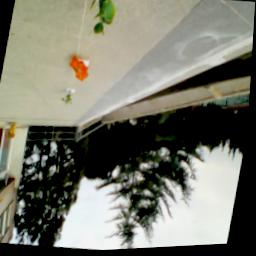herb: (85, 1, 120, 40), (62, 91, 77, 107)
wild: (67, 55, 94, 85)
